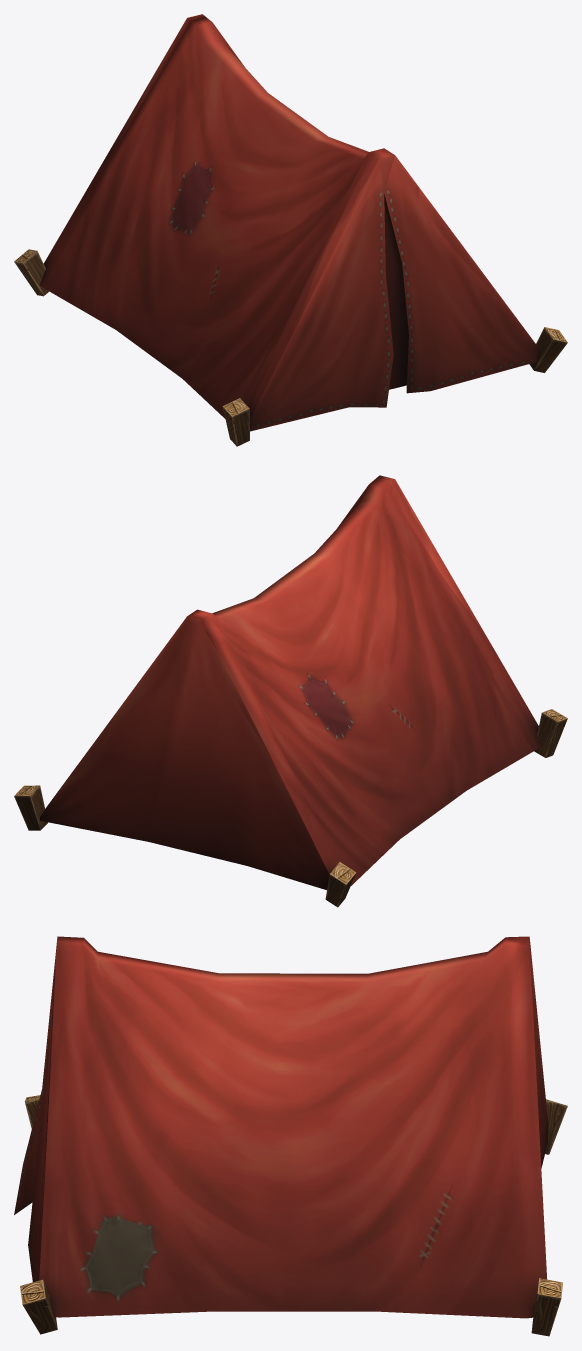
The model's file is Tent1.fbx.
3 views of the same model, one above another, from view 1: azimuth 30°, elevation 25°; view 2: azimuth 150°, elevation 25°; view 3: azimuth 270°, elevation 25° (orthographic). The views are drawn at different scales.
Parts seen in each view (by area): view 1: polySurface586; view 2: polySurface586; view 3: polySurface586.
Boxes of the visible parts, x1=… form: polySurface586: x1=14, y1=14, x2=567, y2=446; polySurface586: x1=14, y1=475, x2=567, y2=907; polySurface586: x1=14, y1=936, x2=567, y2=1336.
Size of the model in its own units: 2.87 by 2.02 by 3.34.
Materials: 1 (1 with a texture image).
